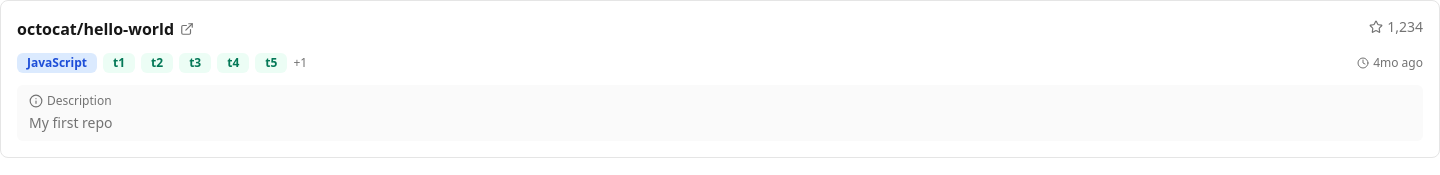
Test: StarEntry › expands topics on click
Click the button "+1": (300, 63) [293,55,307,71]
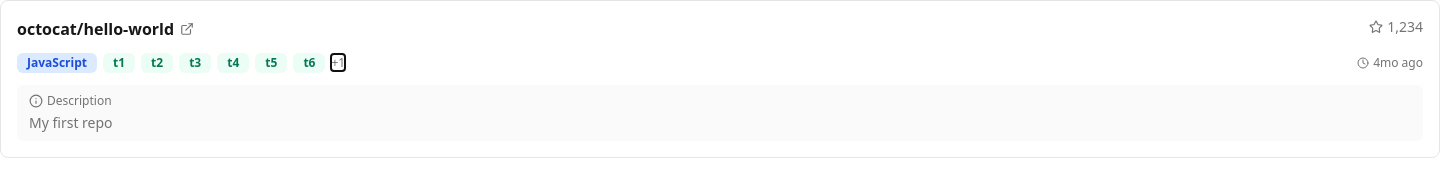
expect the text "t6" is shown: met, box [293,53,326,73]
